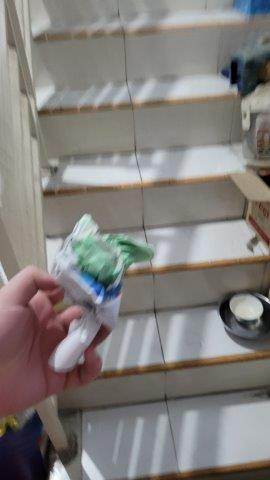kertas: (46, 213, 155, 373)
